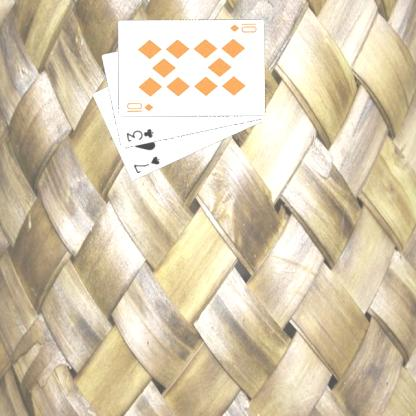10D: (123, 100, 154, 114), (226, 21, 258, 34)
3C: (123, 126, 155, 143)
7S: (130, 153, 161, 176)
